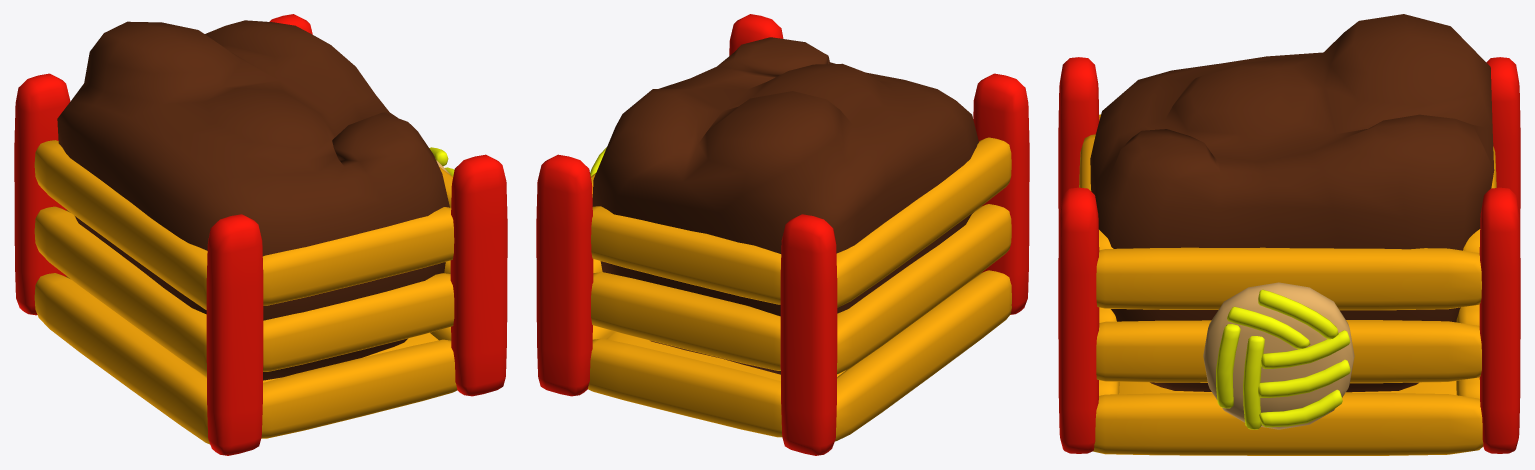
File: caisses avec laine.fbx
The picture shows the model from 3 angles, left to right: view 1: azimuth 30°, elevation 25°; view 2: azimuth 150°, elevation 25°; view 3: azimuth 270°, elevation 25°; orthographic projection. The views are drawn at different scales.
Parts seen in each view (by area): view 1: Cube.026; view 2: Cube.026; view 3: Cube.026.
Boxes of the visible parts, box(x1,y1,x2,y2) form: Cube.026: box(14, 14, 507, 455); Cube.026: box(536, 14, 1029, 455); Cube.026: box(1058, 14, 1520, 455).
Bounding box in the file's own units: 85.21 × 72.53 × 93.77.
